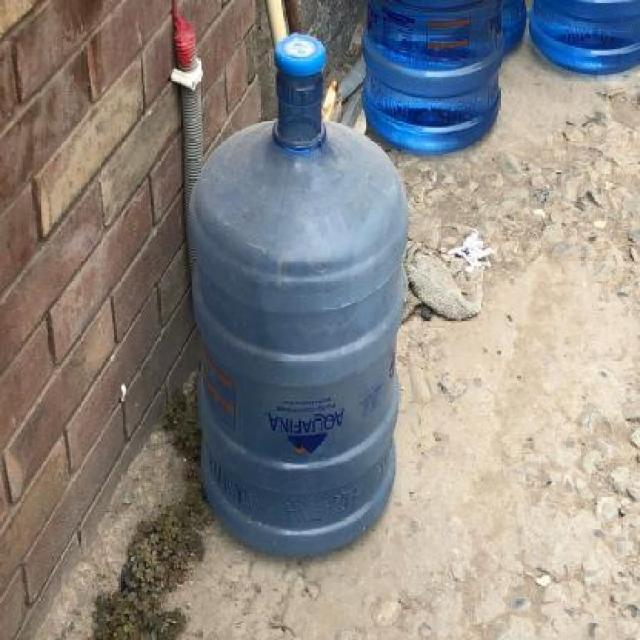garbage: (179, 25, 419, 584), (400, 212, 504, 336)
